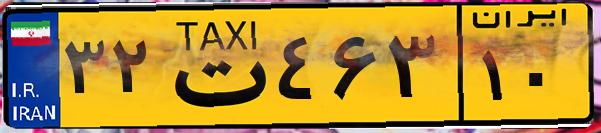0: (525, 38, 570, 115)
1: (475, 38, 525, 113)
2: (110, 28, 158, 98)
3: (385, 28, 445, 110), (57, 26, 110, 100)
4: (270, 28, 330, 110)
6: (330, 28, 385, 110)
ت: (158, 12, 270, 120)
